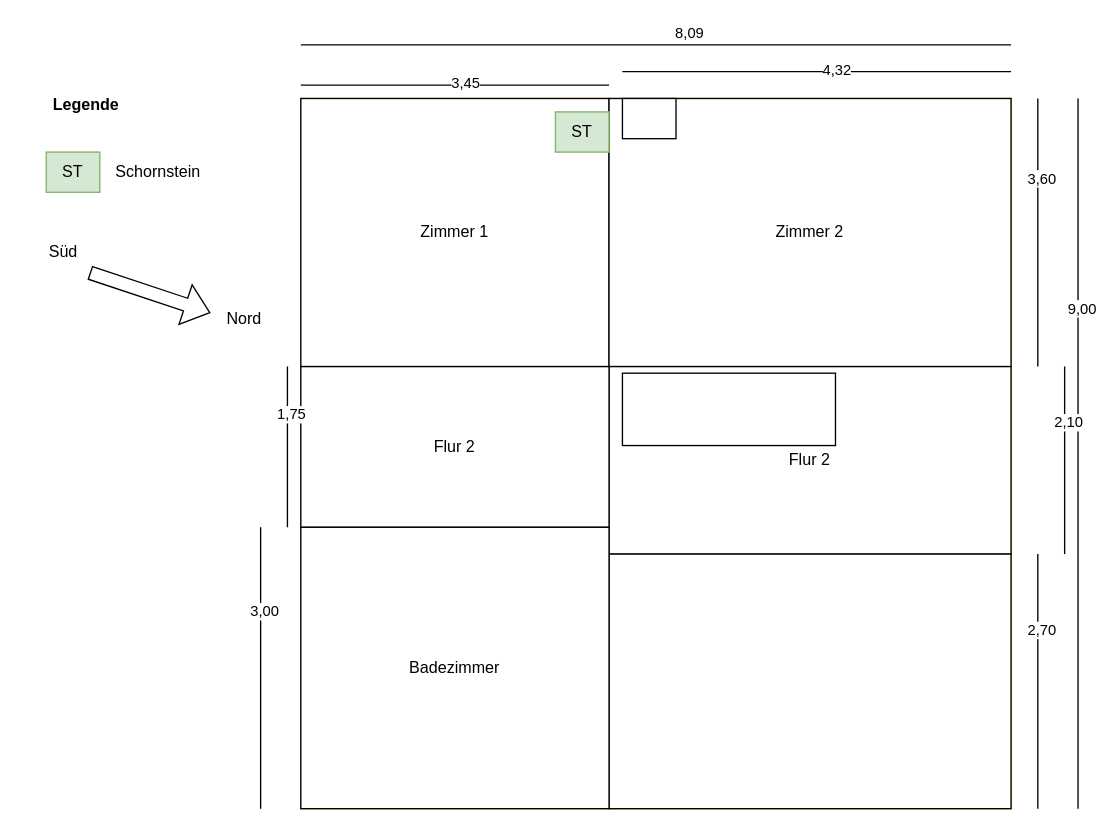
Image size: 1119x833. Some labels were removed from this diagram. The centre of each missing label's shape, as x and y in pixels:
Treppe: point 728,409
WS: point 648,118
Zimmer 3: point 809,681
